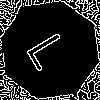L: (25, 25, 78, 73)
